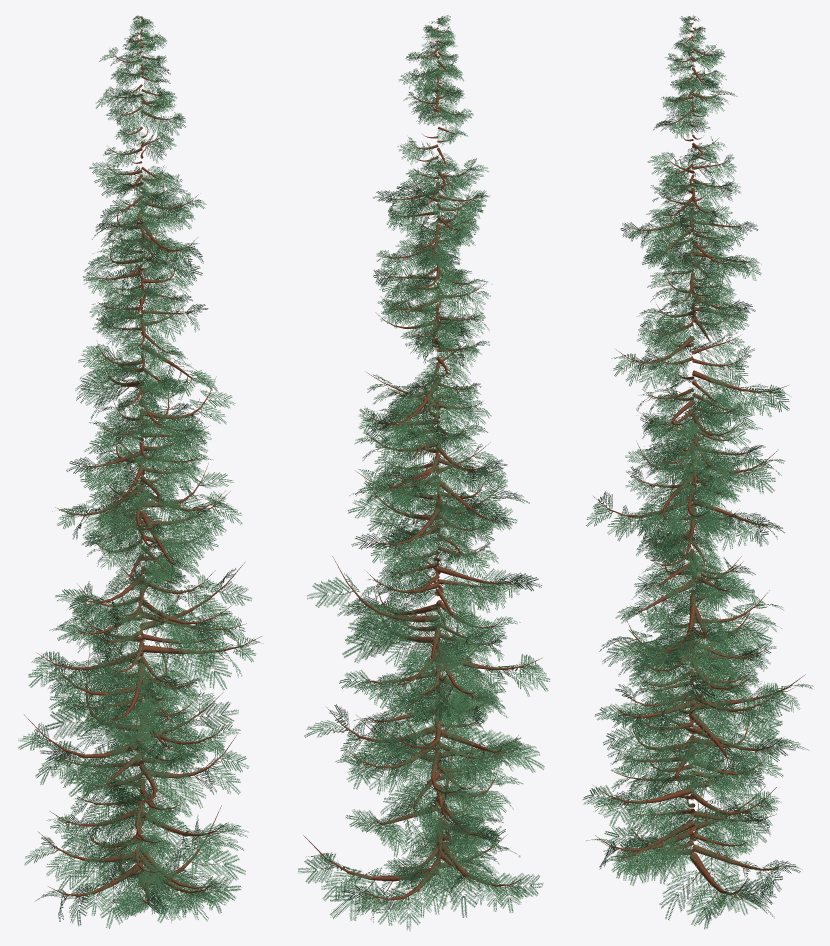
Rendered from forest-fir-lod0.meshopt.glb.
The picture shows the model from 3 angles, left to right: view 1: azimuth 30°, elevation 25°; view 2: azimuth 150°, elevation 25°; view 3: azimuth 270°, elevation 25°; orthographic projection. The views are drawn at different scales.
Visible parts, largest first — view 1: redwood-crown; view 2: redwood-crown; view 3: redwood-crown.
Boxes of the visible parts, left/top/right/bottom form: redwood-crown: left=18, top=15, right=263, bottom=928; redwood-crown: left=298, top=15, right=550, bottom=931; redwood-crown: left=582, top=15, right=813, bottom=929.
Size of the model in its own units: 13.37 by 49.92 by 12.08.
7 materials, 3 textured.
